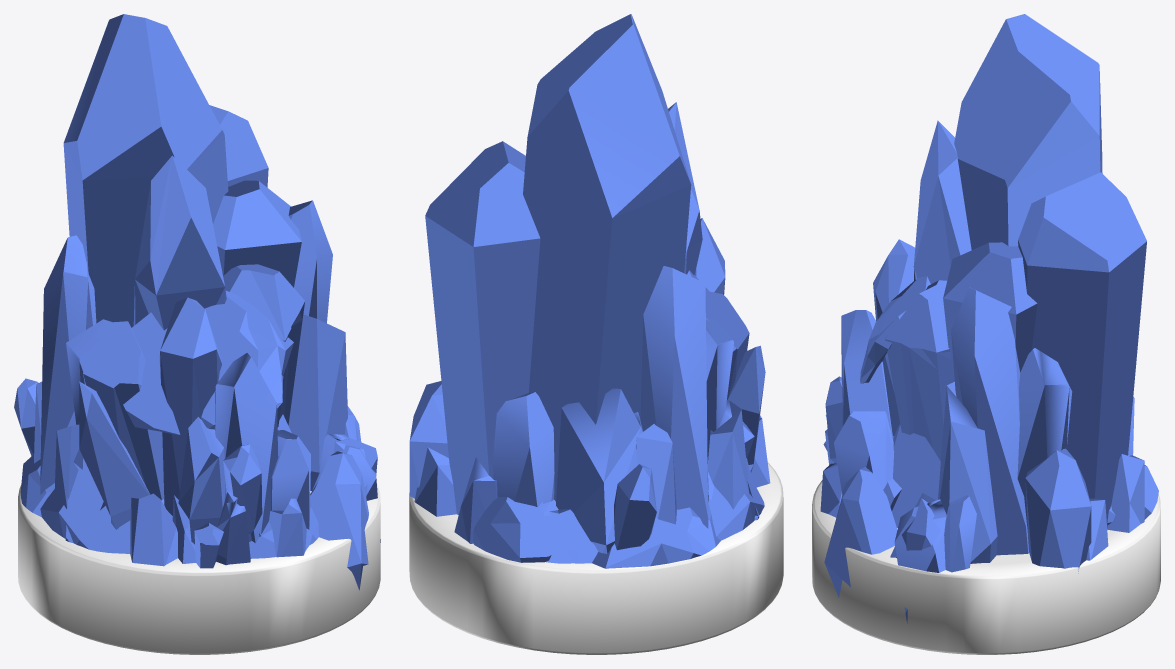
File: Blue Crystal.gltf
The picture shows the model from 3 angles, left to right: view 1: azimuth 30°, elevation 25°; view 2: azimuth 150°, elevation 25°; view 3: azimuth 270°, elevation 25°; orthographic projection. The views are drawn at different scales.
Parts seen in each view (by area): view 1: Object_2, Object_3; view 2: Object_2, Object_3; view 3: Object_2, Object_3.
Part boxes in pixels (x1=…): Object_2: x1=14, y1=14, x2=380, y2=590; Object_3: x1=18, y1=484, x2=380, y2=654; Object_2: x1=409, y1=14, x2=770, y2=568; Object_3: x1=409, y1=462, x2=783, y2=654; Object_2: x1=820, y1=14, x2=1158, y2=623; Object_3: x1=812, y1=480, x2=1160, y2=654.
Size of the model in its own units: 0.3778 by 0.6484 by 0.3778.
